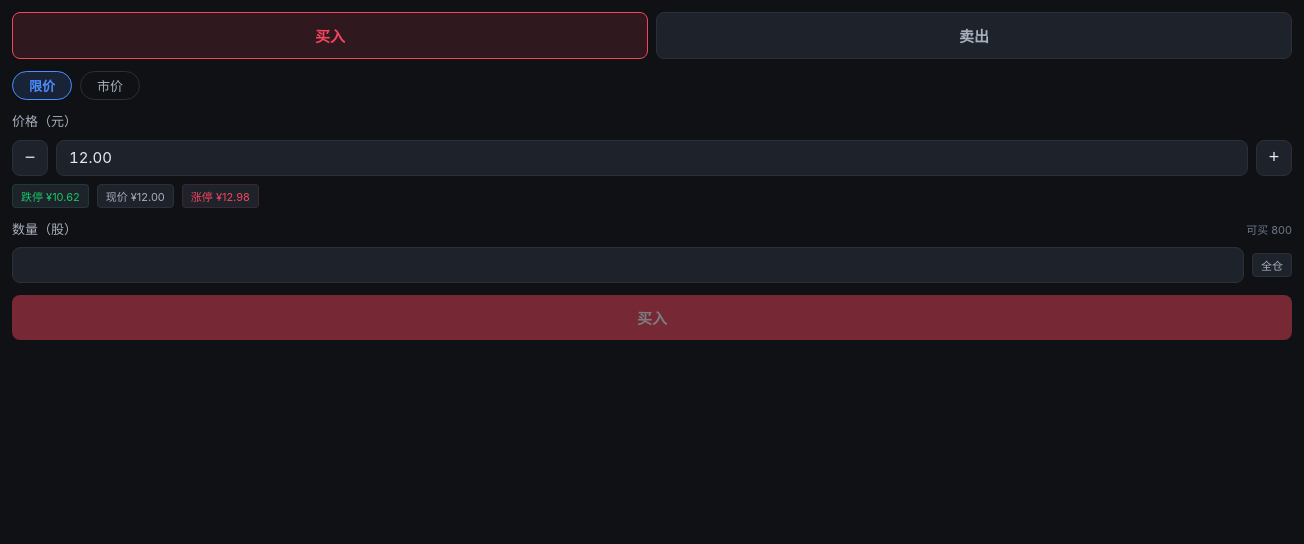
Test case: OrderPanel 数量 › 买入数量非 100 整数倍时下单按钮禁用并提示
Type "150" into the number field with test id "qty-input" at (628, 265), box [12,247,1244,283]
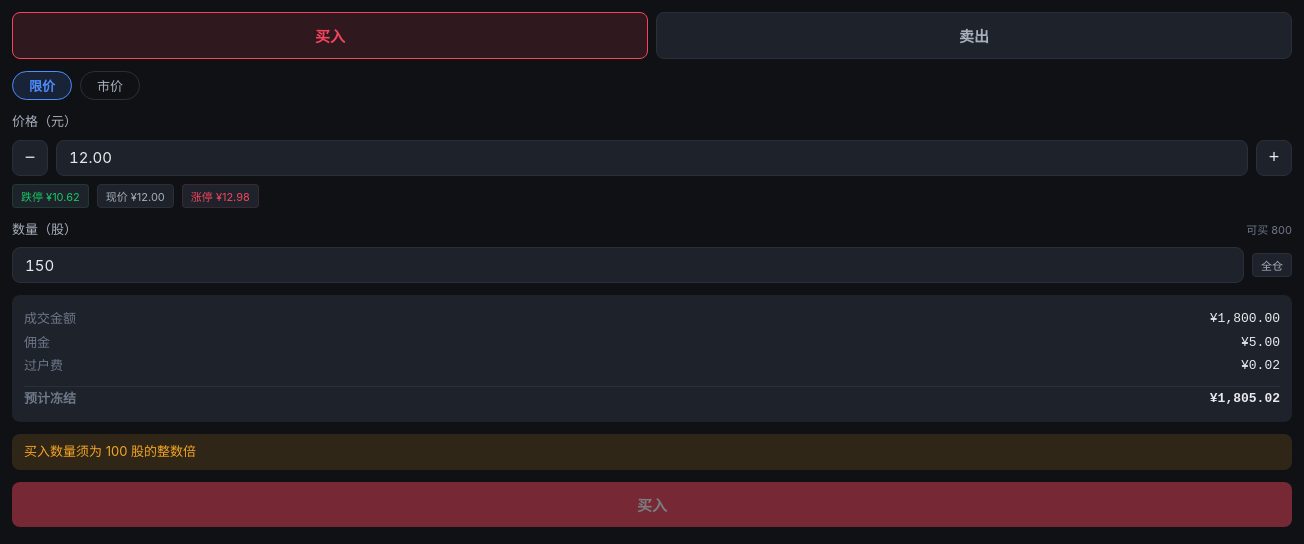
Expected: the button with test id "submit-order" is disabled, [12,482,1292,526]
Expected: the text "买入数量须为 100 股的整数倍" is shown, [12,434,1292,470]
